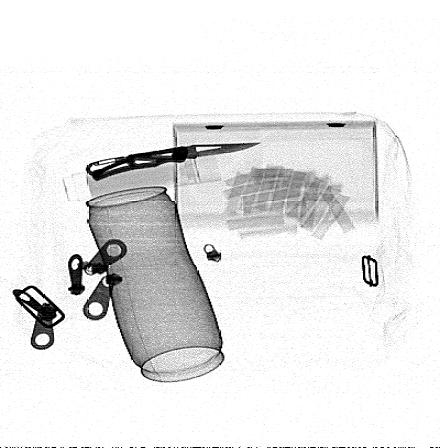Knife: (84, 142, 261, 183)
